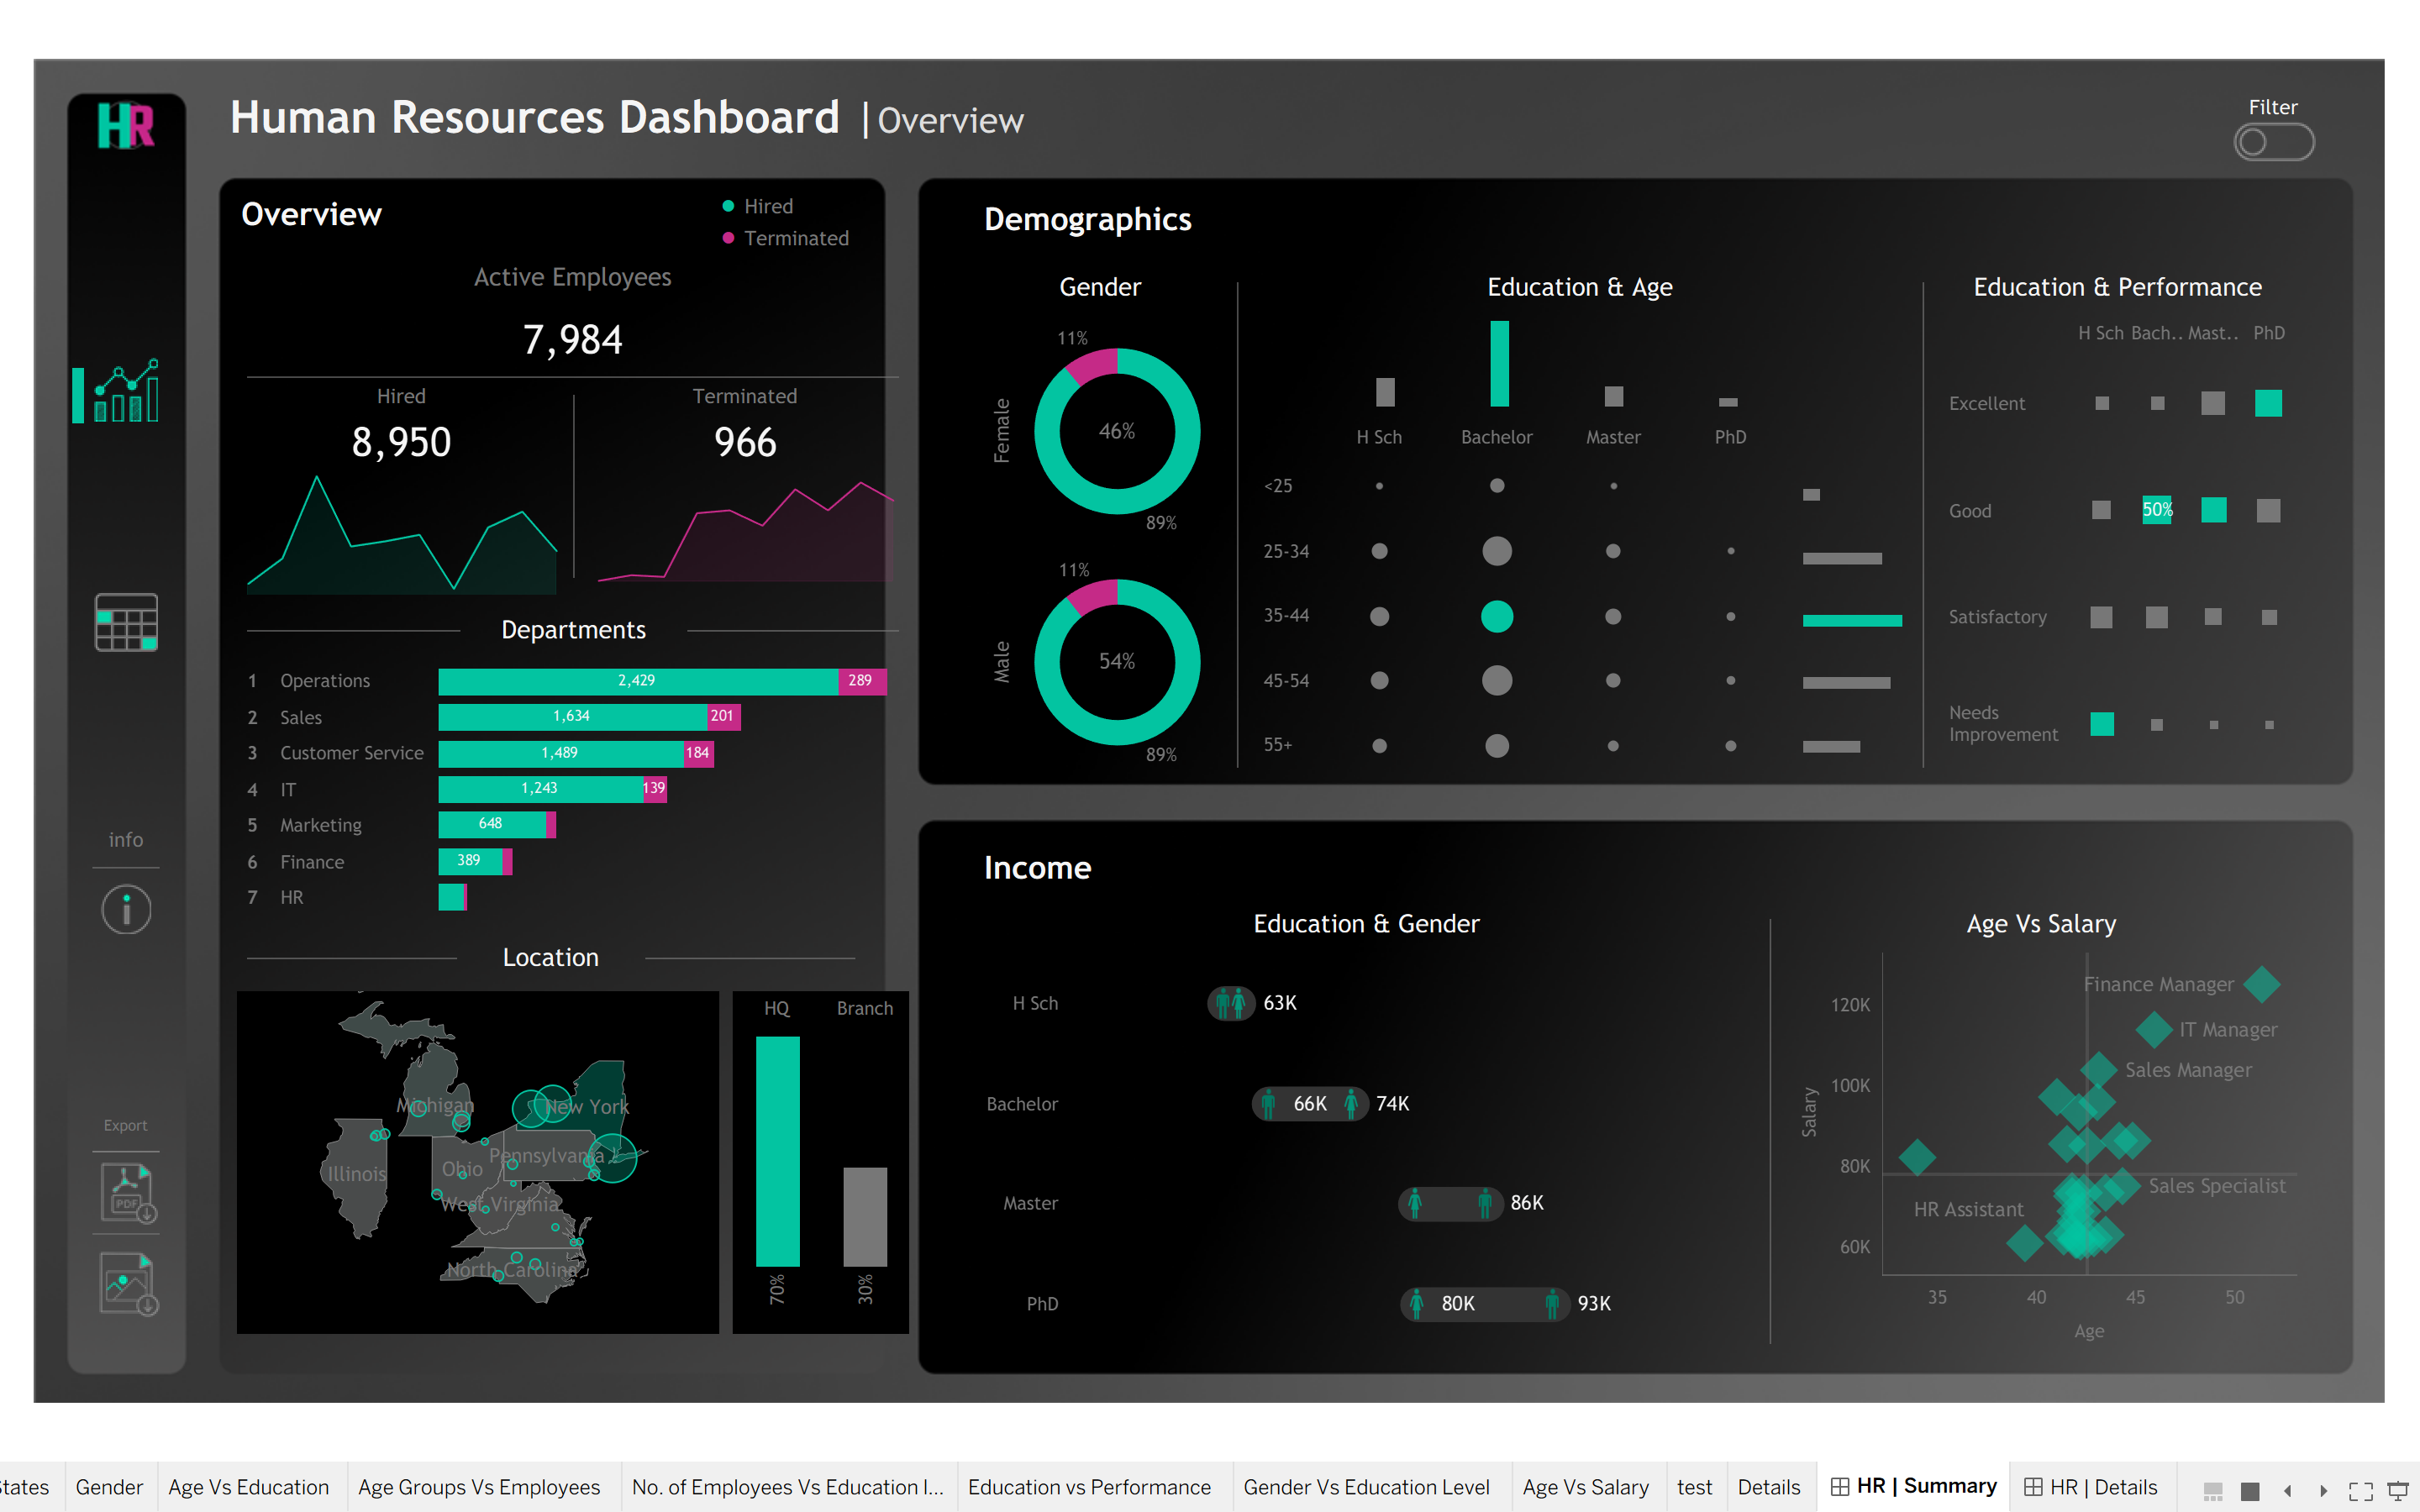

This screenshot's page, from the dashboard's own definition file:
{"tool":"tableau","page":{"name":"HR | Summary","canvas":[1400,800],"ordinal":1},"visuals":[{"type":"image","param":"Image/background dashbaord summary.png","box":[0,0,1400,800]},{"type":"text","box":[110,0,675,70]},{"type":"blank","box":[785,0,595,70]},{"type":"filter","title":"Gender Vs Education Level","param":"[federated.1ru0z8r0nqcx4818v7od20hwav44].[none:Gender:nk]","box":[702,5,119,58]},{"type":"filter","title":"Gender Vs Education Level","param":"[federated.1ru0z8r0nqcx4818v7od20hwav44].[none:Calculation_0787306388230144:nk]","box":[821,5,118,58]},{"type":"filter","title":"Gender Vs Education Level","param":"[federated.1ru0z8r0nqcx4818v7od20hwav44].[none:Calculation_1481096908328965:nk]","box":[939,5,118,58]},{"type":"filter","title":"Gender Vs Education Level","param":"[federated.1ru0z8r0nqcx4818v7od20hwav44].[yr:Hiredate:ok]","box":[1057,5,118,58]},{"type":"blank","box":[92,13,1298,336]},{"type":"text","box":[1303,14,60,30]},{"type":"image","param":"Image/Logo.png","box":[20,20,70,38]},{"type":"dashboard-object","box":[1308,21,50,57]},{"type":"blank","box":[20,58,70,110]},{"type":"text","box":[117,77,408,31]},{"type":"text","box":[406,77,100,38]},{"type":"text","box":[559,77,792,41]},{"type":"text","box":[117,108,408,38]},{"type":"text","box":[559,123,152,26]},{"type":"blank","box":[716,123,1,309]},{"type":"text","box":[722,123,397,26]},{"type":"blank","box":[1124,123,1,309]},{"type":"text","box":[1130,123,221,26]},{"type":"worksheet","title":"BAN Active","mark":"Text","box":[117,146,408,43]},{"type":"worksheet","title":"Gender","mark":"Pie","rows":["Gender"],"cols":["Calculation_1481096917221386","Calculation_1481096917221386"],"box":[559,149,152,283]},{"type":"worksheet","title":"No. of Employees Vs Education level","mark":"Bar","rows":["Calculation_1481096888954880"],"cols":["Education Level"],"box":[722,149,397,62]},{"type":"worksheet","title":"Education vs Performance","mark":"Square","rows":["Performance Rating"],"cols":["Education Level"],"box":[1130,149,221,283]},{"type":"dashboard-object","box":[30,178,50,38]},{"type":"blank","box":[23,184,7,33]},{"type":"blank","box":[117,189,408,1]},{"type":"text","box":[117,190,204,22]},{"type":"blank","box":[321,190,1,129]},{"type":"text","box":[322,190,203,22]},{"type":"worksheet","title":"Age Vs Education","mark":"Circle","rows":["Calculation_1179556890259457"],"cols":["Education Level"],"box":[722,211,327,221]},{"type":"worksheet","title":"Age Groups Vs Employees","mark":"Bar","rows":["Calculation_1179556890259457"],"cols":["Calculation_1481096888954880"],"box":[1049,211,70,221]},{"type":"worksheet","title":"BAN Hired","mark":"Text","box":[117,212,204,32]},{"type":"worksheet","title":"BAN Terminated","mark":"Text","box":[322,212,203,32]},{"type":"blank","box":[30,216,50,100]},{"type":"worksheet","title":"Hired by Year","mark":"Line","rows":["Calculation_1481096888954880","Calculation_1481096888954880"],"cols":["Hiredate"],"box":[117,244,204,75]},{"type":"worksheet","title":"Terminated by Year","mark":"Area","rows":["Calculation_1481096889323521","Calculation_1481096889323521"],"cols":["Termdate"],"box":[322,244,203,75]},{"type":"dashboard-object","box":[30,316,50,38]},{"type":"blank","box":[127,324,127,32]},{"type":"text","box":[254,324,135,32]},{"type":"blank","box":[389,324,126,32]},{"type":"text","box":[92,349,1298,218]},{"type":"blank","box":[30,354,50,100]},{"type":"worksheet","title":"Department","mark":"Bar","rows":["Calculation_1481096907264004","Department"],"cols":["Calculation_1481096888954880"],"box":[117,356,408,158]},{"type":"text","box":[30,454,50,22]},{"type":"text","box":[559,466,792,31]},{"type":"blank","box":[30,476,50,11]},{"type":"dashboard-object","box":[30,487,50,38]},{"type":"text","box":[559,502,469,26]},{"type":"blank","box":[1033,502,1,273]},{"type":"text","box":[1039,502,312,26]},{"type":"blank","box":[127,519,125,32]},{"type":"text","box":[252,519,112,32]},{"type":"blank","box":[364,519,125,32]},{"type":"blank","box":[30,525,50,100]},{"type":"worksheet","title":"Gender Vs Education Level","mark":"Square","rows":["Education Level"],"cols":["Salary","Salary"],"box":[559,528,469,247]},{"type":"worksheet","title":"Age Vs Salary","mark":"Shape","rows":["Salary"],"cols":["Calculation_1179556888674304"],"box":[1039,528,312,247]},{"type":"worksheet","title":"Map States","mark":"Automatic","box":[117,551,295.2,212]},{"type":"worksheet","title":"Locations","mark":"Bar","rows":["Calculation_1481096888954880"],"cols":["Calculation_1481096908328965","Calculation1"],"box":[412.2,551,112.8,212]},{"type":"text","box":[30,625,50,20]},{"type":"blank","box":[30,645,50,11]},{"type":"dashboard-object","box":[30,656,50,38]},{"type":"blank","box":[30,694,50,11]},{"type":"dashboard-object","box":[30,705,50,48]}]}

Visuals, with their boxes on the page's 1400x800 design canvas (x1, y1, x2, y2). These are canvas units, not pixel positions in the 2420x1512 screenshot, which may show the page scaled, cropped or inside an application window:
image: bbox(0, 0, 1400, 800)
text: bbox(110, 0, 785, 70)
blank: bbox(785, 0, 1380, 70)
"Gender Vs Education Level" filter: bbox(702, 5, 821, 63)
"Gender Vs Education Level" filter: bbox(821, 5, 939, 63)
"Gender Vs Education Level" filter: bbox(939, 5, 1057, 63)
"Gender Vs Education Level" filter: bbox(1057, 5, 1175, 63)
blank: bbox(92, 13, 1390, 349)
text: bbox(1303, 14, 1363, 44)
image: bbox(20, 20, 90, 58)
dashboard-object: bbox(1308, 21, 1358, 78)
blank: bbox(20, 58, 90, 168)
text: bbox(117, 77, 525, 108)
text: bbox(406, 77, 506, 115)
text: bbox(559, 77, 1351, 118)
text: bbox(117, 108, 525, 146)
text: bbox(559, 123, 711, 149)
blank: bbox(716, 123, 717, 432)
text: bbox(722, 123, 1119, 149)
blank: bbox(1124, 123, 1125, 432)
text: bbox(1130, 123, 1351, 149)
"BAN Active" worksheet (Text marks): bbox(117, 146, 525, 189)
"Gender" worksheet (Pie marks): bbox(559, 149, 711, 432)
"No. of Employees Vs Education level" worksheet (Bar marks): bbox(722, 149, 1119, 211)
"Education vs Performance" worksheet (Square marks): bbox(1130, 149, 1351, 432)
dashboard-object: bbox(30, 178, 80, 216)
blank: bbox(23, 184, 30, 217)
blank: bbox(117, 189, 525, 190)
text: bbox(117, 190, 321, 212)
blank: bbox(321, 190, 322, 319)
text: bbox(322, 190, 525, 212)
"Age Vs Education" worksheet (Circle marks): bbox(722, 211, 1049, 432)
"Age Groups Vs Employees" worksheet (Bar marks): bbox(1049, 211, 1119, 432)
"BAN Hired" worksheet (Text marks): bbox(117, 212, 321, 244)
"BAN Terminated" worksheet (Text marks): bbox(322, 212, 525, 244)
blank: bbox(30, 216, 80, 316)
"Hired by Year" worksheet (Line marks): bbox(117, 244, 321, 319)
"Terminated by Year" worksheet (Area marks): bbox(322, 244, 525, 319)
dashboard-object: bbox(30, 316, 80, 354)
blank: bbox(127, 324, 254, 356)
text: bbox(254, 324, 389, 356)
blank: bbox(389, 324, 515, 356)
text: bbox(92, 349, 1390, 567)
blank: bbox(30, 354, 80, 454)
"Department" worksheet (Bar marks): bbox(117, 356, 525, 514)
text: bbox(30, 454, 80, 476)
text: bbox(559, 466, 1351, 497)
blank: bbox(30, 476, 80, 487)
dashboard-object: bbox(30, 487, 80, 525)
text: bbox(559, 502, 1028, 528)
blank: bbox(1033, 502, 1034, 775)
text: bbox(1039, 502, 1351, 528)
blank: bbox(127, 519, 252, 551)
text: bbox(252, 519, 364, 551)
blank: bbox(364, 519, 489, 551)
blank: bbox(30, 525, 80, 625)
"Gender Vs Education Level" worksheet (Square marks): bbox(559, 528, 1028, 775)
"Age Vs Salary" worksheet (Shape marks): bbox(1039, 528, 1351, 775)
"Map States" worksheet: bbox(117, 551, 412, 763)
"Locations" worksheet (Bar marks): bbox(412, 551, 525, 763)
text: bbox(30, 625, 80, 645)
blank: bbox(30, 645, 80, 656)
dashboard-object: bbox(30, 656, 80, 694)
blank: bbox(30, 694, 80, 705)
dashboard-object: bbox(30, 705, 80, 753)
